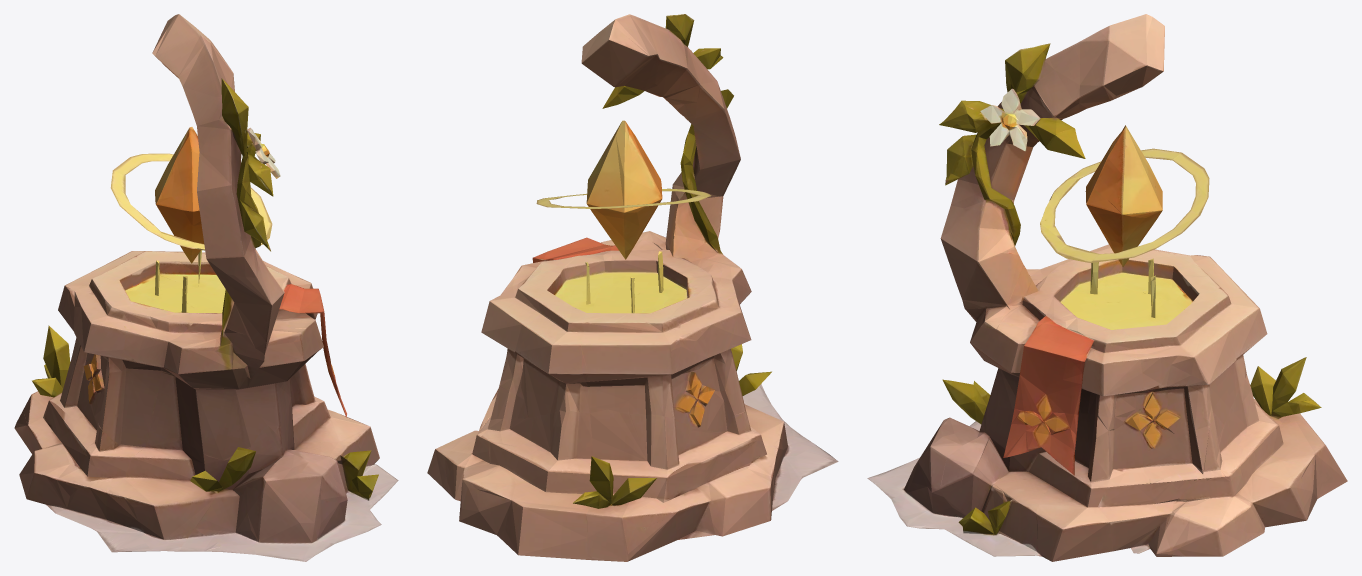
The model's file is KeepSakePedestalV1-v1.glb.
3 views of the same model, side by side, from view 1: azimuth 30°, elevation 25°; view 2: azimuth 150°, elevation 25°; view 3: azimuth 270°, elevation 25° (orthographic). The views are drawn at different scales.
Visible parts, largest first — view 1: tripo_node_a0f7f33c-6ba7-4ffa-a44a-4402049cc01d; view 2: tripo_node_a0f7f33c-6ba7-4ffa-a44a-4402049cc01d; view 3: tripo_node_a0f7f33c-6ba7-4ffa-a44a-4402049cc01d.
Boxes of the visible parts, <box> form: tripo_node_a0f7f33c-6ba7-4ffa-a44a-4402049cc01d: <box>14,14,398,561</box>; tripo_node_a0f7f33c-6ba7-4ffa-a44a-4402049cc01d: <box>427,14,838,561</box>; tripo_node_a0f7f33c-6ba7-4ffa-a44a-4402049cc01d: <box>867,14,1347,561</box>.
Bounding box in the file's own units: 0.7008 × 0.9799 × 0.9097.
Materials: 1 (1 with a texture image).
